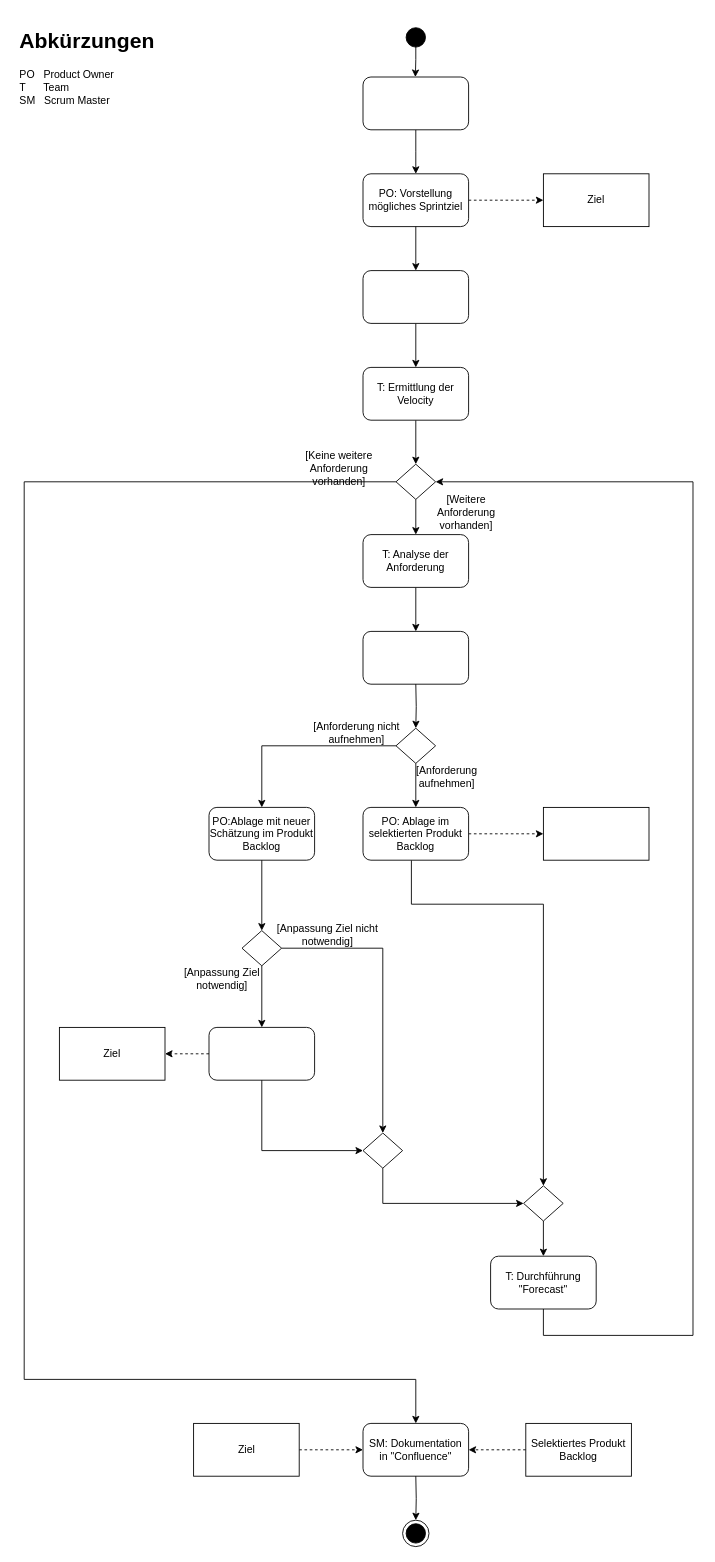
Some shapes in this 715 by 1562 pixel diagram are drawn without their labels. Each missing label, with the box of its shape:
PO: Vorstellung Meeting-Agenda: (362, 76, 469, 130)
Selektierter Produkt Backlog: (543, 807, 649, 860)
T: "Planning Poker" für Anforderung: (362, 631, 469, 684)
T: Anpassung des Sprint Ziels: (208, 1027, 315, 1080)
T: Review vorheriger Sprint: (362, 270, 469, 323)
